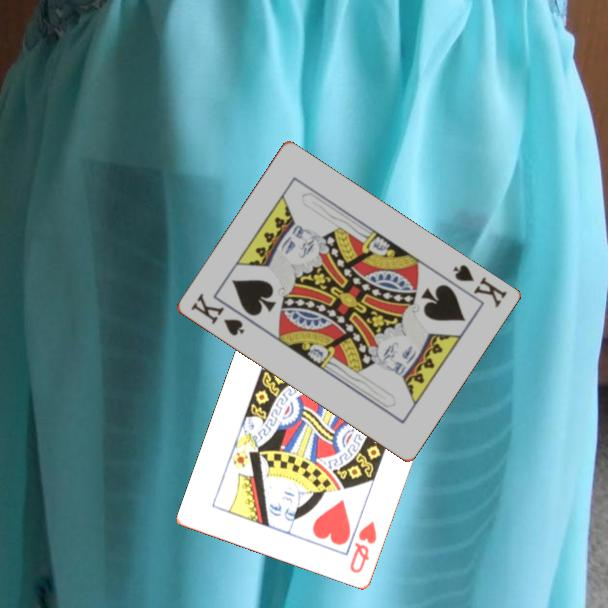h12: (346, 518, 380, 577)
s13: (449, 261, 509, 311), (187, 290, 247, 339)
